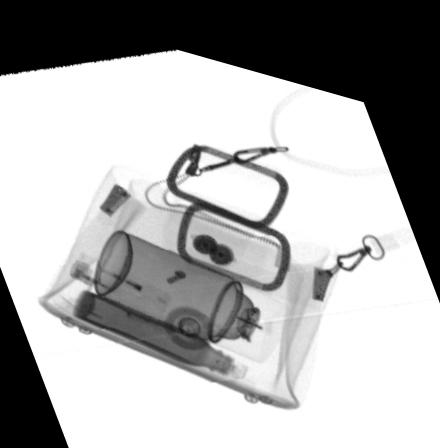Lighter: (66, 175, 146, 283)
Sprayer: (92, 224, 289, 348)
